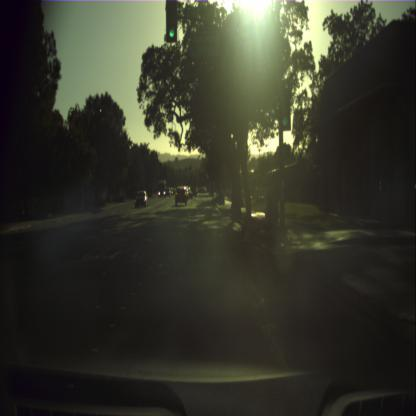Green: (279, 89, 290, 129), (166, 0, 176, 41)
